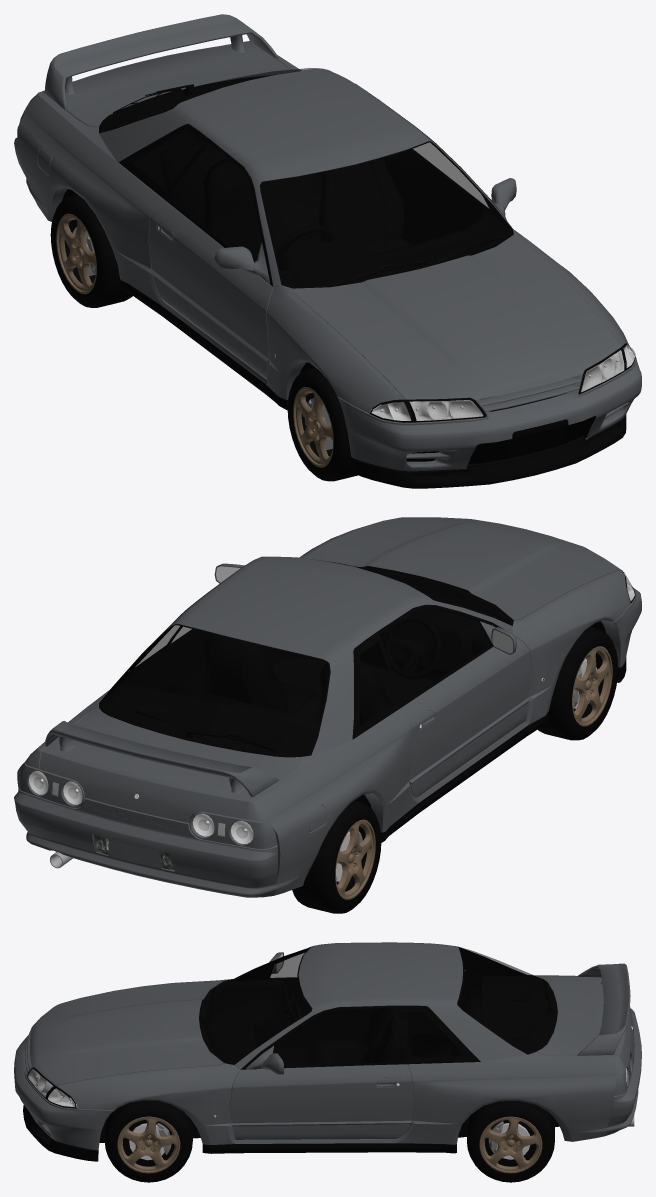
File: Old GTR.fbx
The picture shows the model from 3 angles, top to bottom: view 1: azimuth 30°, elevation 25°; view 2: azimuth 150°, elevation 25°; view 3: azimuth 270°, elevation 25°; orthographic projection. The views are drawn at different scales.
Visible parts, largest first — view 1: CarBody, Glass, Object_17, Object_22, TyreRR, TyreFR, Object_20, Object_6, Object_11, Object_13; view 2: CarBody, Glass, Object_17, TyreRR, TyreFR, Object_22, Object_11, Object_17.001, Object_6, Object_20, Object_4, Object_10; view 3: CarBody, Glass, Object_17, Object_22, TyreFL, TyreRL, Object_20, Object_11, Object_6, Object_17.001, Object_13.
Part boxes in pixels (<box>): CarBody: <box>14,14,641,471</box>; Glass: <box>100,68,625,422</box>; Object_17: <box>99,75,510,286</box>; Object_22: <box>113,83,635,488</box>; TyreRR: <box>50,194,132,307</box>; TyreFR: <box>287,367,358,481</box>; Object_20: <box>61,189,614,476</box>; Object_6: <box>157,226,634,420</box>; Object_11: <box>99,68,511,287</box>; Object_13: <box>369,343,635,422</box>; CarBody: <box>14,517,641,897</box>; Glass: <box>100,559,622,755</box>; Object_17: <box>99,581,510,755</box>; TyreRR: <box>292,800,381,913</box>; TyreFR: <box>537,627,618,740</box>; Object_22: <box>168,565,635,842</box>; Object_11: <box>99,568,511,757</box>; Object_17.001: <box>384,615,441,679</box>; Object_6: <box>29,573,634,843</box>; Object_20: <box>354,566,605,807</box>; Object_4: <box>29,771,253,843</box>; Object_10: <box>216,566,513,653</box>; CarBody: <box>14,942,641,1150</box>; Glass: <box>27,947,556,1098</box>; Object_17: <box>206,948,556,1065</box>; Object_22: <box>23,965,553,1161</box>; TyreFL: <box>104,1100,192,1182</box>; TyreRL: <box>467,1101,554,1182</box>; Object_20: <box>99,979,559,1166</box>; Object_11: <box>205,946,557,1064</box>; Object_6: <box>27,1068,627,1108</box>; Object_17.001: <box>283,984,303,1030</box>; Object_13: <box>46,1065,630,1108</box>.
Size of the model in its own units: 170 by 118 by 404.
